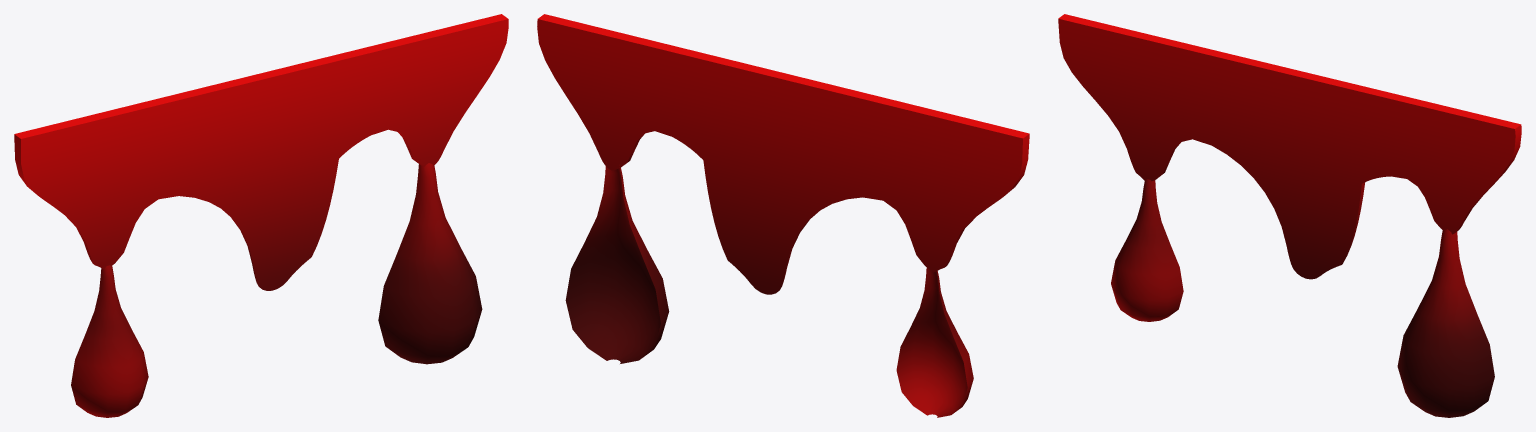
The model's file is Blood_006.FBX.
3 views of the same model, side by side, from view 1: azimuth 30°, elevation 25°; view 2: azimuth 150°, elevation 25°; view 3: azimuth 330°, elevation 25° (orthographic). The views are drawn at different scales.
Visible parts, largest first — view 1: Blood_006; view 2: Blood_006; view 3: Blood_006.
Boxes of the visible parts, left/top/right/bottom form: Blood_006: left=14, top=14, right=508, bottom=417; Blood_006: left=537, top=14, right=1029, bottom=417; Blood_006: left=1058, top=14, right=1521, bottom=417.
Size of the model in its own units: 19.95 by 12.77 by 2.11.
1 material, 1 textured.
